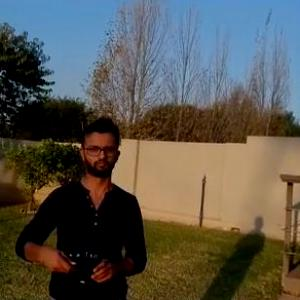follow: (12, 108, 154, 299)
